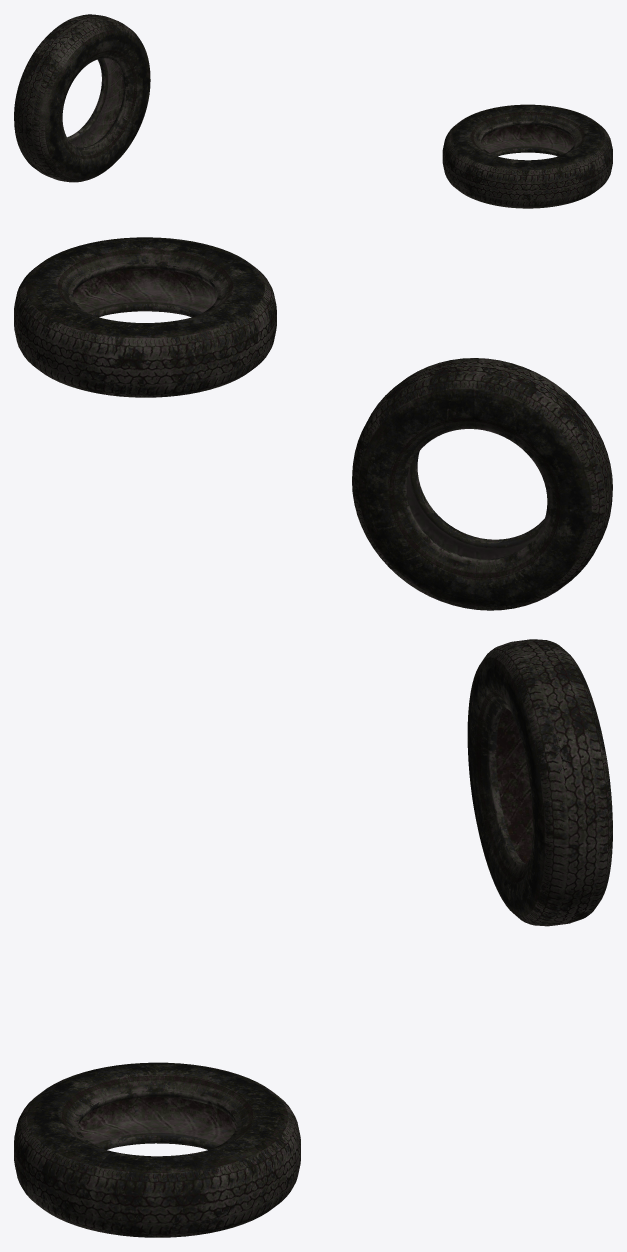
File: tyre.glb
The picture shows the model from 3 angles, top to bottom: view 1: azimuth 30°, elevation 25°; view 2: azimuth 150°, elevation 25°; view 3: azimuth 270°, elevation 25°; orthographic projection. The views are drawn at different scales.
Parts seen in each view (by area): view 1: old_tyre (×2); view 2: old_tyre (×2); view 3: old_tyre (×2).
Part boxes in pixels (<box>): old_tyre (×2): <box>14,14,612,208</box>; old_tyre (×2): <box>14,237,612,610</box>; old_tyre (×2): <box>14,639,612,1237</box>.
Size of the model in its own units: 1.95 by 0.6 by 1.25.
Materials: 1 (1 with a texture image).
